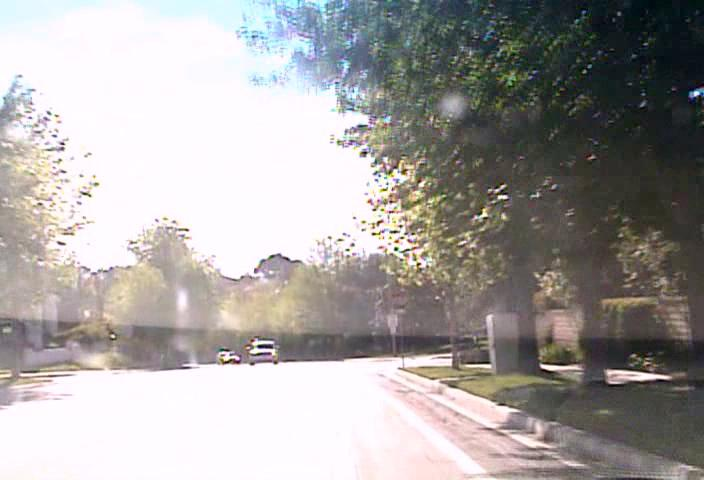stop: (388, 289, 407, 309)
